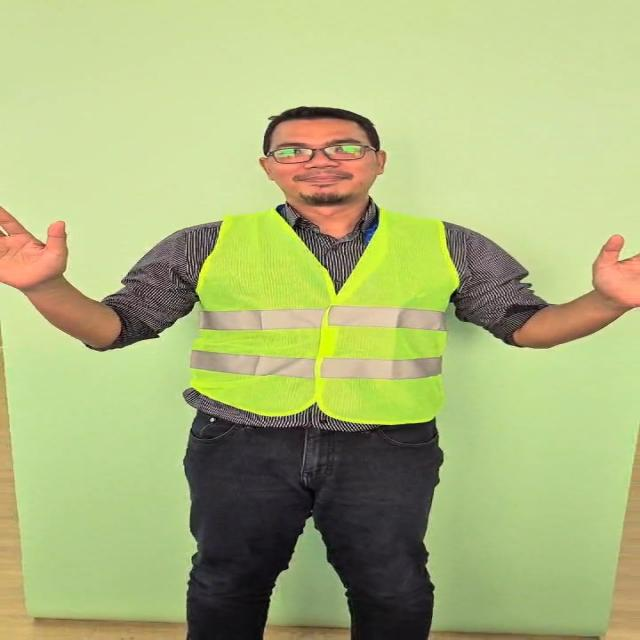goggles: (265, 145, 379, 164)
safety_vest: (188, 210, 454, 422)
